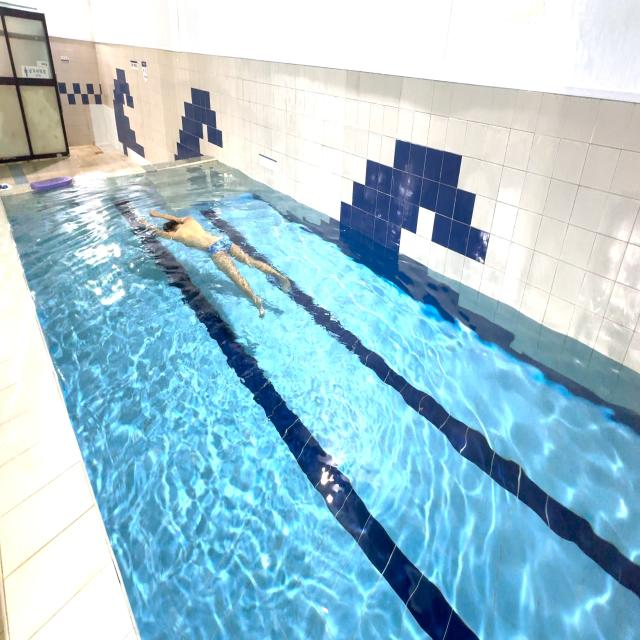Drowning: (128, 188, 292, 335)
